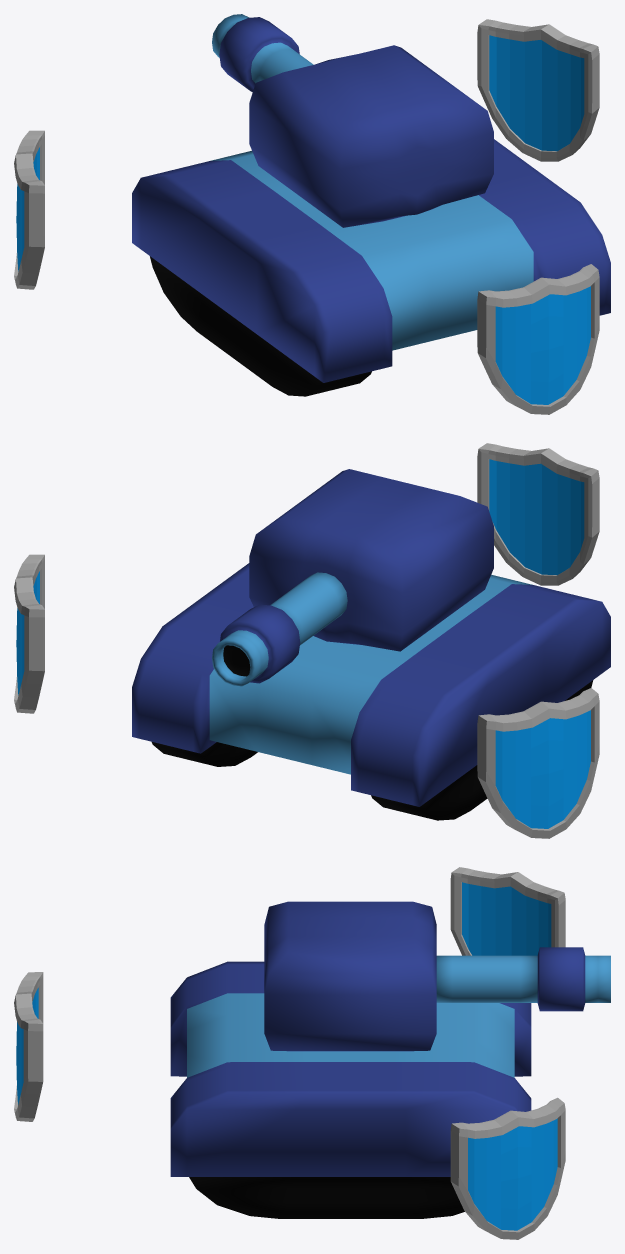
The model's file is ShieldsBoost.fbx.
3 renders of one model, top to bottom at view 1: azimuth 30°, elevation 25°; view 2: azimuth 150°, elevation 25°; view 3: azimuth 270°, elevation 25°, orthographic. The views are drawn at different scales.
Visible parts, largest first — view 1: ShieldsBoost; view 2: ShieldsBoost; view 3: ShieldsBoost.
Part boxes in pixels (<box>): ShieldsBoost: <box>14,14,610,414</box>; ShieldsBoost: <box>14,443,610,838</box>; ShieldsBoost: <box>14,867,610,1239</box>.
Size of the model in its own units: 379 by 154 by 364.
